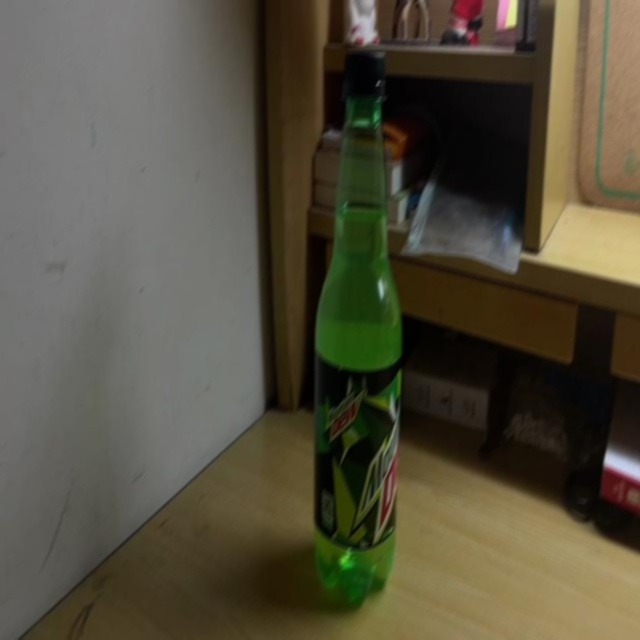Mountain-Dew: (312, 48, 400, 604)
